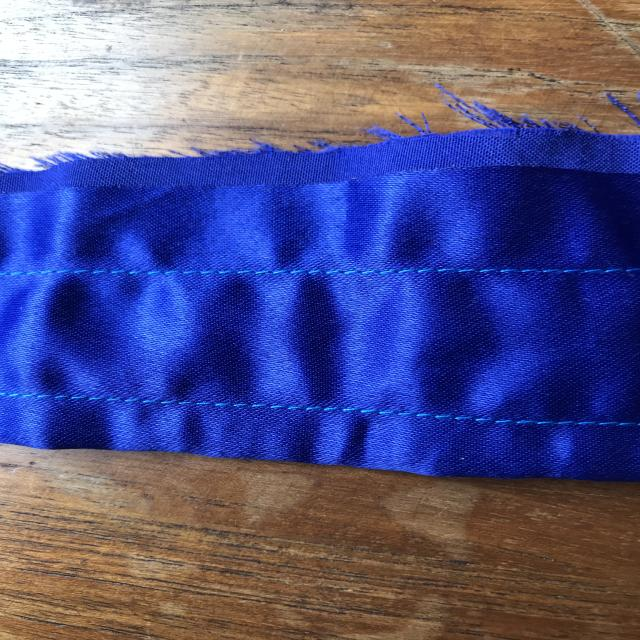good: (308, 405, 559, 441), (155, 260, 440, 283)
